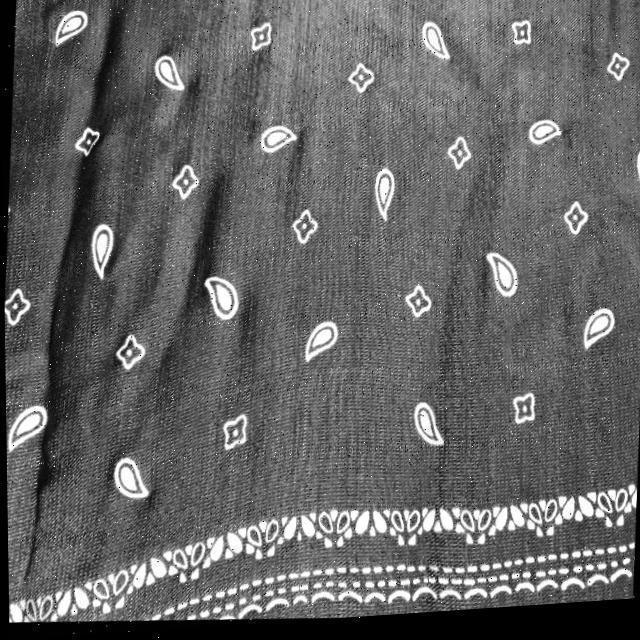broken_yarn: (20, 7, 132, 615), (172, 175, 232, 321)
